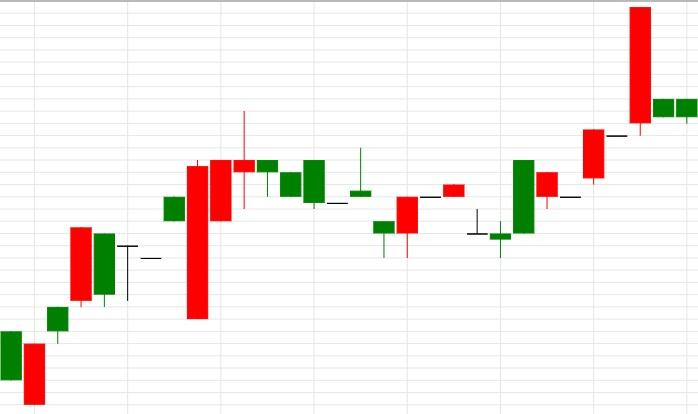bullish_engulfing_rise: (233, 111, 419, 258)
hanging_man_fall: (139, 111, 279, 320)
